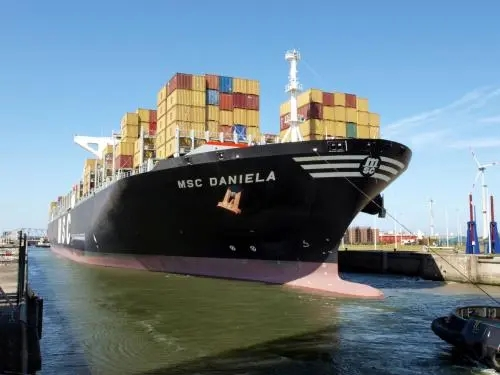Cargoship: (47, 47, 422, 301)
